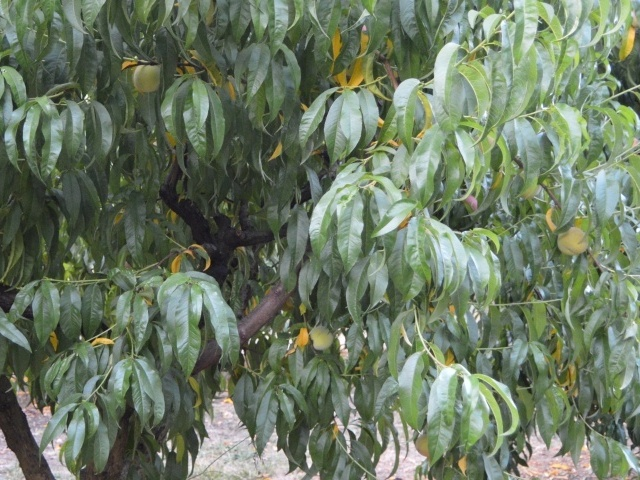peach: (554, 220, 592, 260), (130, 58, 163, 97), (304, 323, 335, 355), (413, 430, 437, 456)
